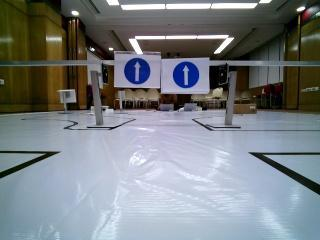straight: (163, 57, 211, 94), (116, 50, 161, 88)
